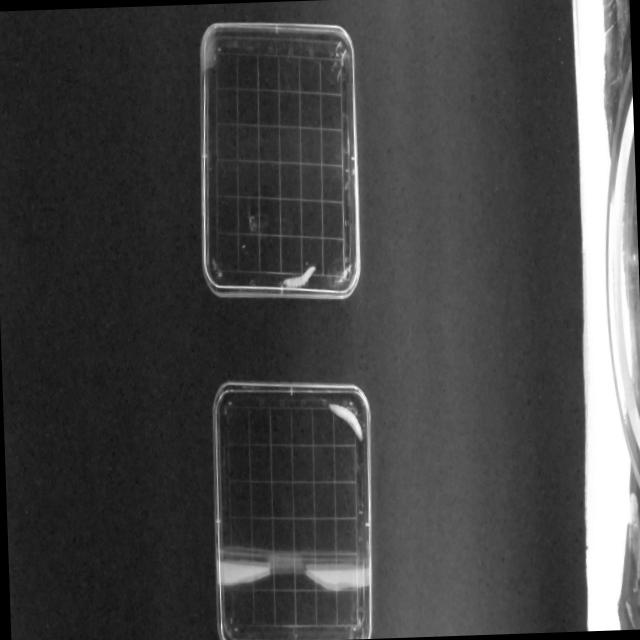larva: (328, 401, 363, 444), (282, 264, 317, 290)
